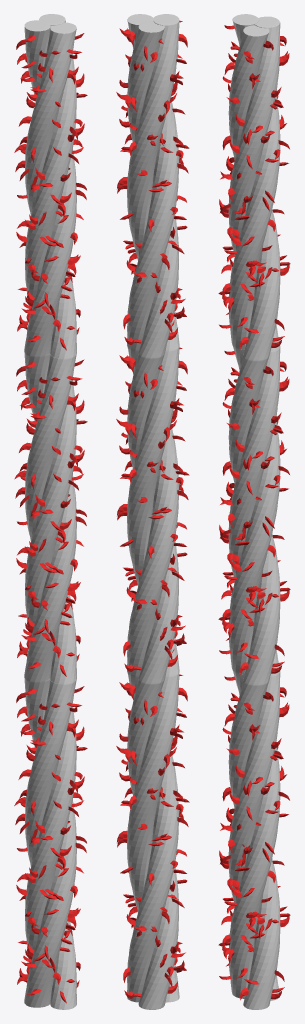
Rendered from loza-1-2-1.fbx.
3 views of the same model, side by side, from view 1: azimuth 30°, elevation 25°; view 2: azimuth 210°, elevation 25°; view 3: azimuth 330°, elevation 25° (orthographic).
Parts seen in each view (by area): view 1: ship.003; view 2: ship.003; view 3: ship.003.
Boxes of the visible parts, x1,y1,x2,y2 form: ship.003: (14,14,87,1009); ship.003: (116,14,189,1009); ship.003: (218,14,290,1009).
Size of the model in its own units: 24.87 by 377 by 25.36.
